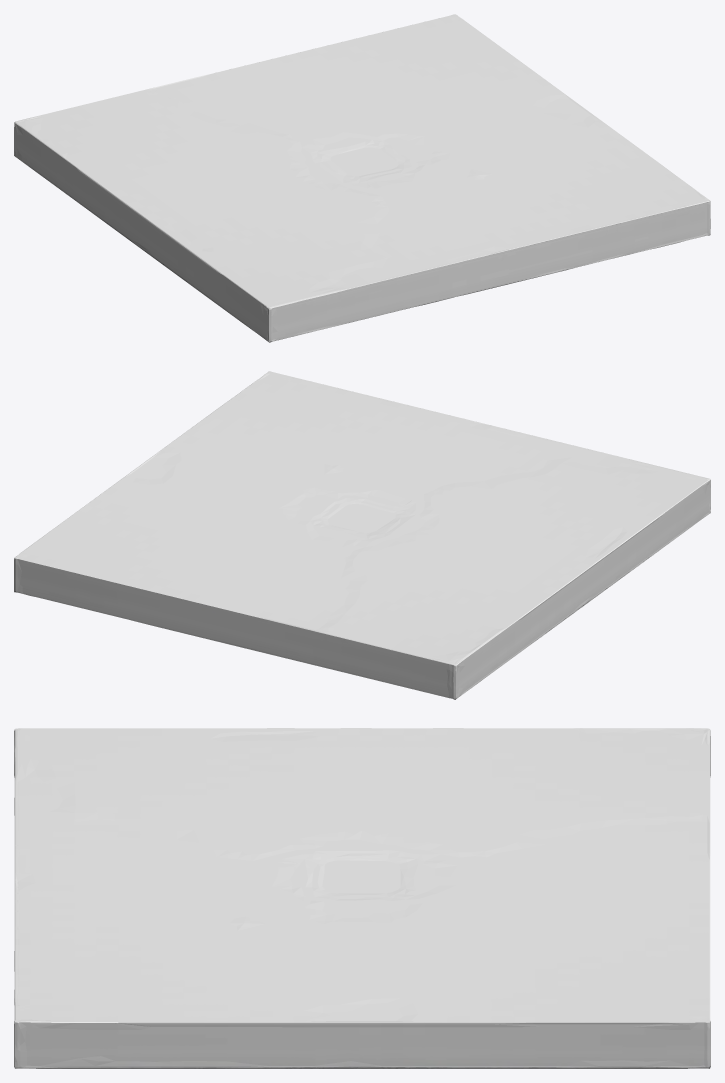
File: 0537ef3f-e148-4296-8da3-f9a5acaa9671.glb
3 views of the same model, one above another, from view 1: azimuth 30°, elevation 25°; view 2: azimuth 150°, elevation 25°; view 3: azimuth 270°, elevation 25° (orthographic). The views are drawn at different scales.
Parts seen in each view (by area): view 1: world; view 2: world; view 3: world.
Boxes of the visible parts, x1,y1,x2,y2 form: world: (14, 14, 710, 342); world: (14, 371, 710, 699); world: (14, 728, 710, 1068).
Size of the model in its own units: 1 by 0.0759 by 1.
Materials: 1 (1 with a texture image).
